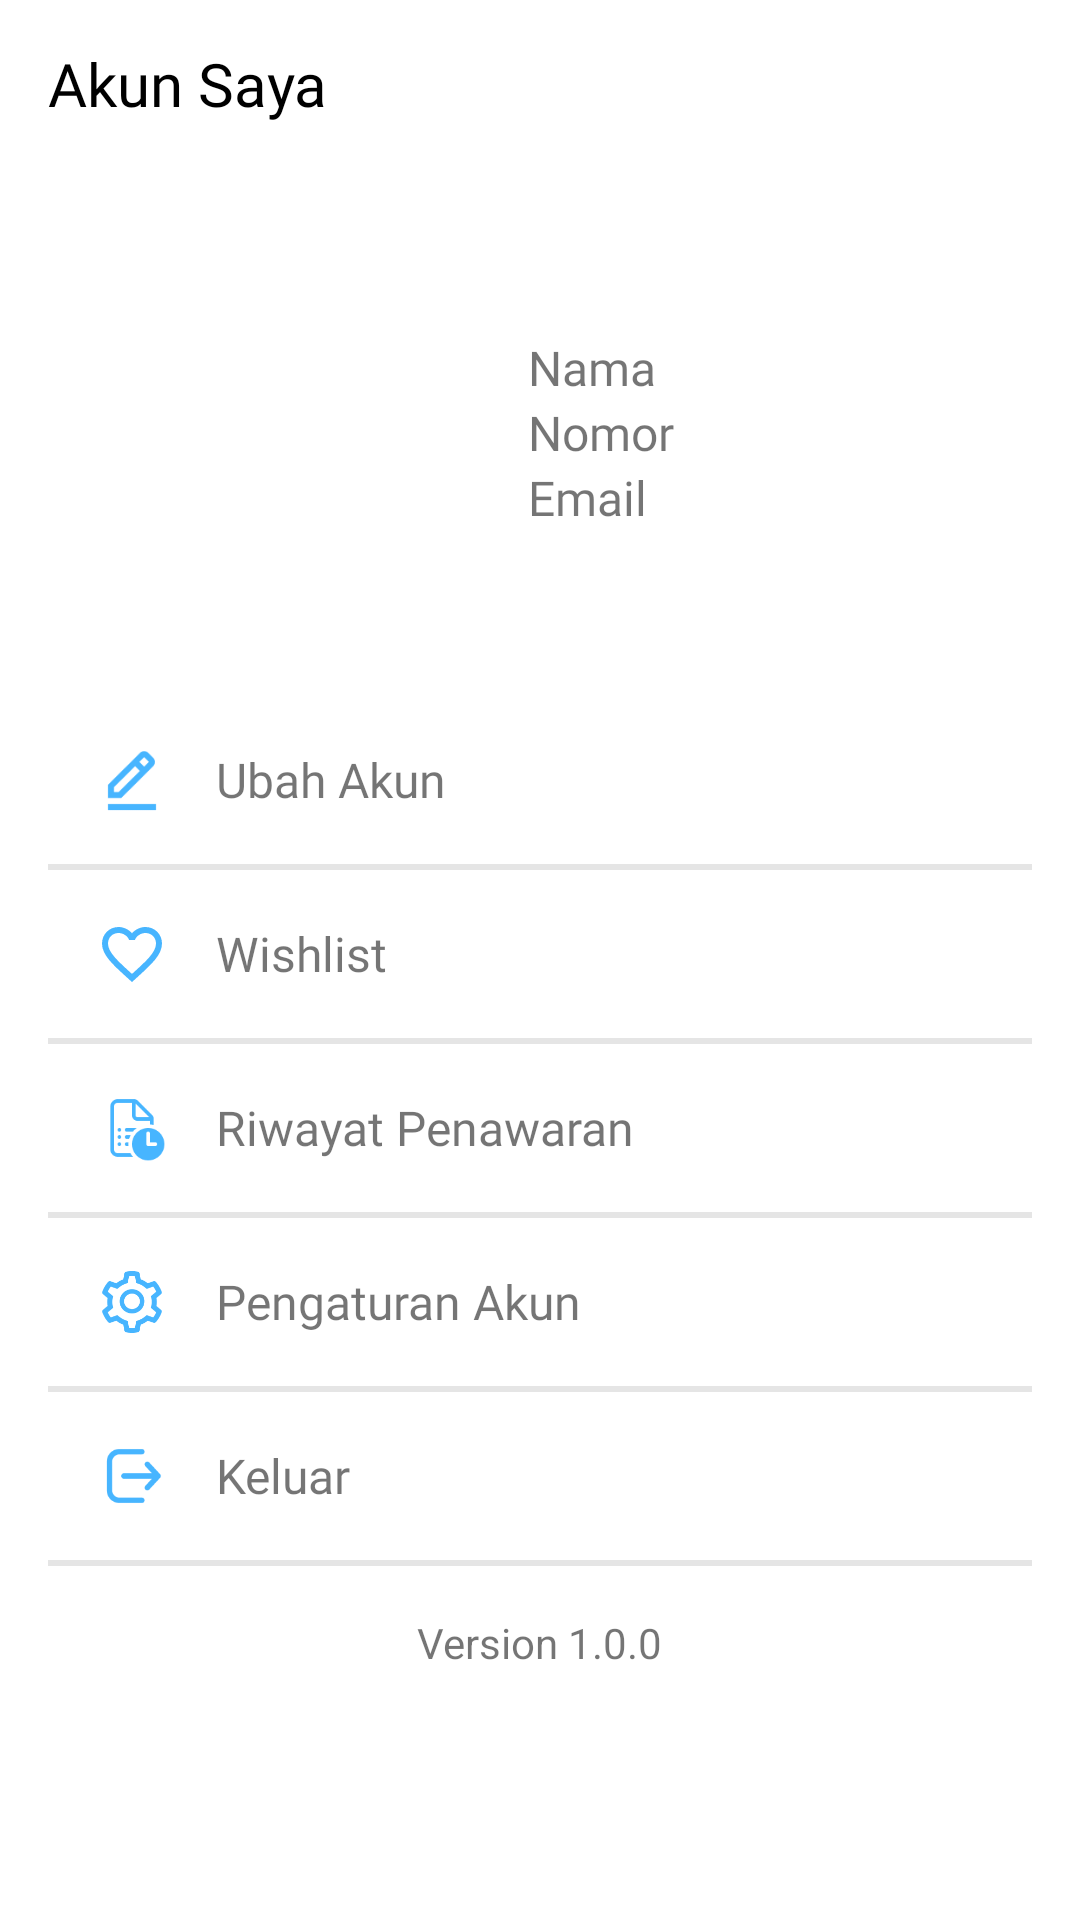

Icons on this 1080x1920 Android screen, each with its box as bbox=[x1, y1, x2, y2]:
edit: bbox=[108, 751, 156, 810]
favorite: bbox=[102, 927, 162, 982]
history: bbox=[110, 1099, 165, 1161]
setting: bbox=[102, 1271, 162, 1333]
